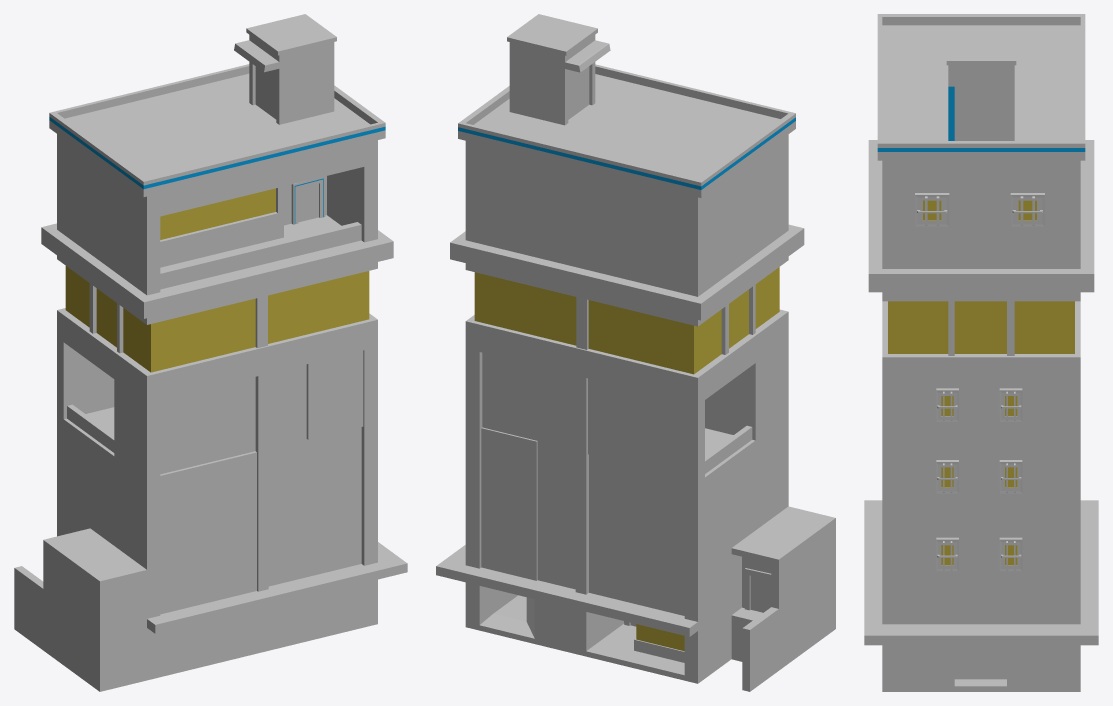
The model's file is Building_TallBoiTest.fbx.
3 views of the same model, side by side, from view 1: azimuth 30°, elevation 25°; view 2: azimuth 150°, elevation 25°; view 3: azimuth 270°, elevation 25° (orthographic). The views are drawn at different scales.
Parts seen in each view (by area): view 1: Cube.076; view 2: Cube.076; view 3: Cube.076.
Boxes of the visible parts, x1=… form: Cube.076: x1=14, y1=14, x2=407, y2=691; Cube.076: x1=436, y1=14, x2=835, y2=691; Cube.076: x1=864, y1=14, x2=1098, y2=691.
Bounding box in the file's own units: 1190 × 2159 × 734.
